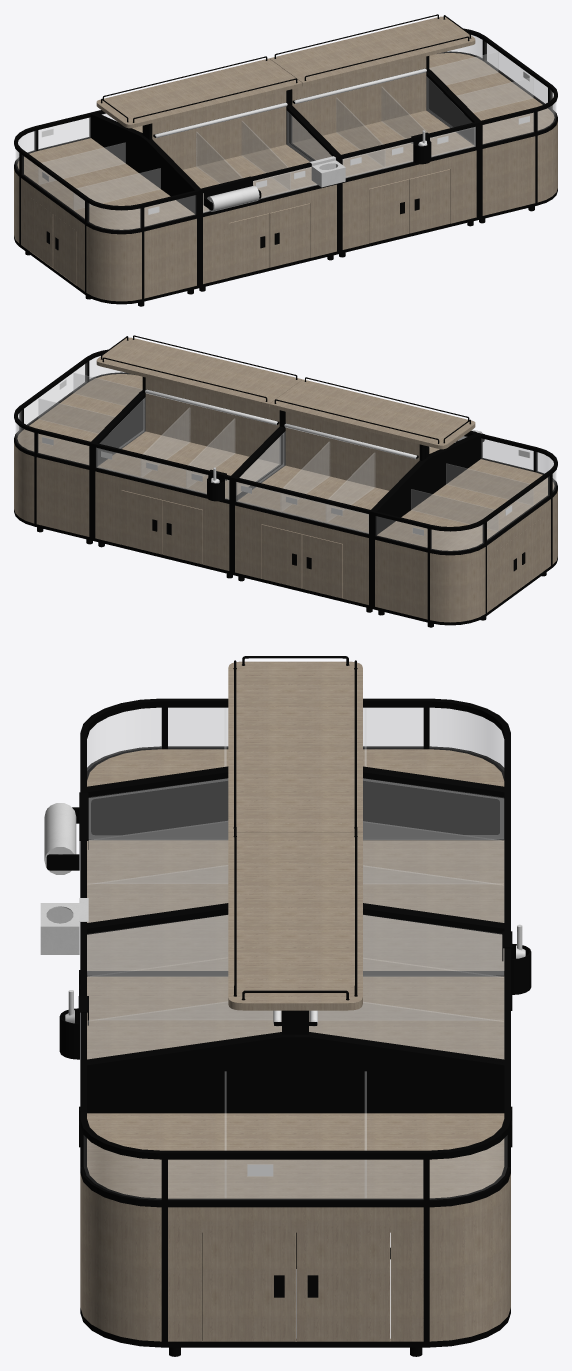
The model's file is SM_杂粮柜001.fbx.
The picture shows the model from 3 angles, top to bottom: view 1: azimuth 30°, elevation 25°; view 2: azimuth 150°, elevation 25°; view 3: azimuth 270°, elevation 25°; orthographic projection. The views are drawn at different scales.
Visible parts, largest first — view 1: SM_杂粮柜001; view 2: SM_杂粮柜001; view 3: SM_杂粮柜001.
Boxes of the visible parts, x1,y1,x2,y2 form: SM_杂粮柜001: (14,14,557,306); SM_杂粮柜001: (14,335,557,627); SM_杂粮柜001: (40,656,531,1356).
Size of the model in its own units: 414 by 131 by 188.
